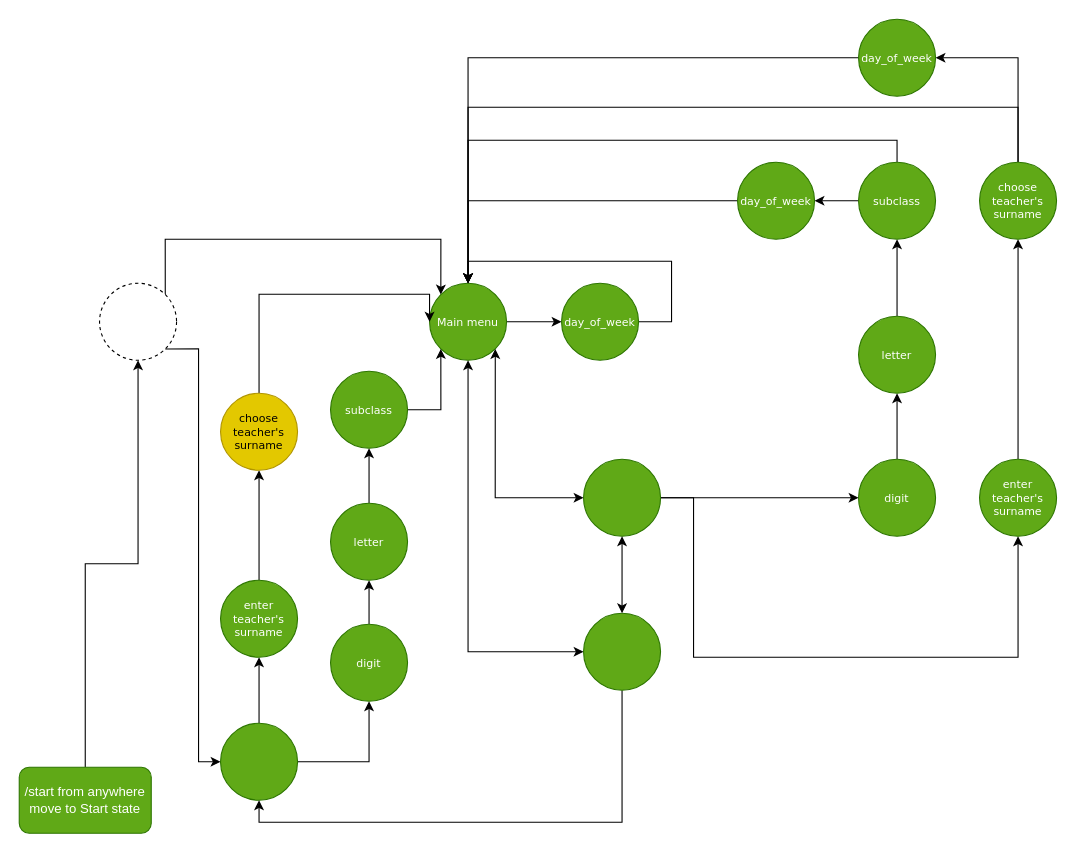
This 1076x853 diagram has some shape labels left out. Each missing label, with the centre of its shape:
"other_menu #1" goes at point (621, 497).
"other_menu #2" goes at point (621, 651).
"Registration" goes at point (258, 761).
"Start (imagine state)" goes at point (137, 321).
